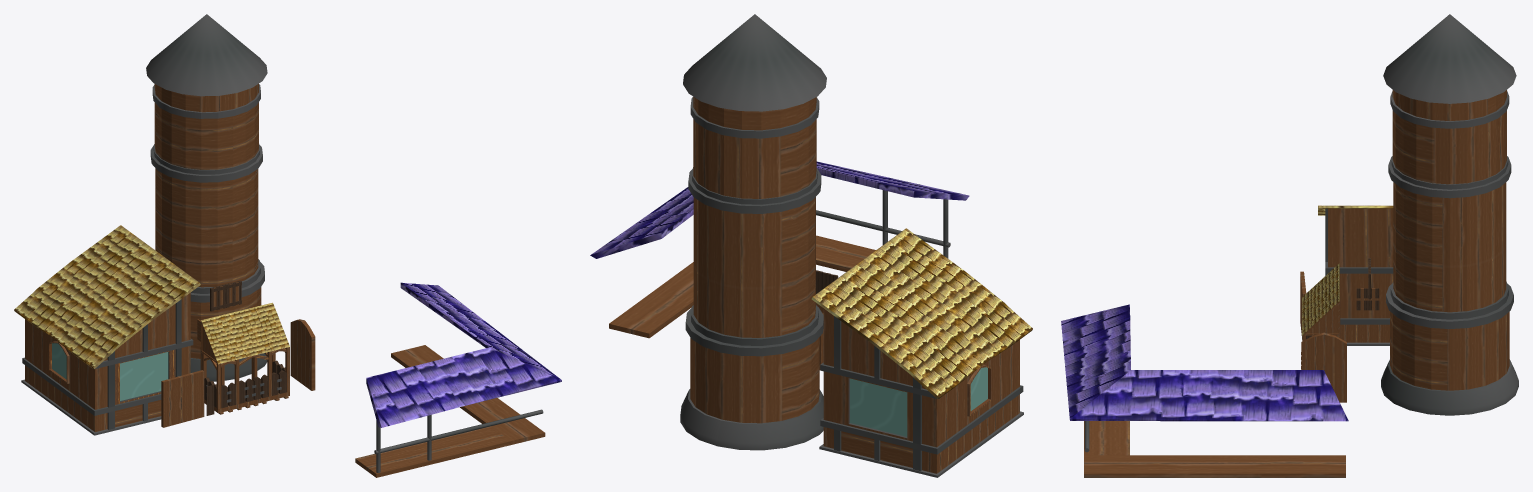
File: SM_Add_ons.fbx
3 renders of one model, left to right at view 1: azimuth 30°, elevation 25°; view 2: azimuth 150°, elevation 25°; view 3: azimuth 270°, elevation 25°, orthographic. The views are drawn at different scales.
Visible parts, largest first — view 1: SM_Side_house_Add_on, SM_Mill_Body, SM_House_Level_02_Terrace_Ver_01_Roof, SM_Mill_Roof, SM_House_Level_02_Terrace_Ver_01_FloorBoards, SM_House_level_02_terrace_ver_02, SM_House_level_02_terrace_ver_02_End_R, SM_Level_02_door, SM_House_level_02_terrace_ver_02_End_L, SM_Mill_Middle_Ring, SM_Door_01, SM_Mill_Top_Ring (+3 smaller); view 2: SM_Side_house_Add_on, SM_Mill_Body, SM_Mill_Roof, SM_House_Level_02_Terrace_Ver_01_Roof, SM_House_Level_02_Terrace_Ver_01_FloorBoards, SM_Mill_Base, SM_Mill_Bottom_Ring, SM_Mill_Middle_Ring, SM_Mill_Top_Ring, polySurface45; view 3: SM_Mill_Body, SM_House_Level_02_Terrace_Ver_01_Roof, SM_Side_house_Add_on, SM_Mill_Roof, SM_House_Level_02_Terrace_Ver_01_FloorBoards, SM_Mill_Base, SM_Mill_Bottom_Ring, SM_Door_01, SM_Mill_Middle_Ring, SM_Mill_Top_Ring, SM_House_level_02_terrace_ver_02_End_L, SM_House_level_02_terrace_ver_02 (+1 smaller).
Part boxes in pixels (<box>): SM_Side_house_Add_on: <box>14,225,200,435</box>; SM_Mill_Body: <box>154,83,261,358</box>; SM_House_Level_02_Terrace_Ver_01_Roof: <box>366,282,561,427</box>; SM_Mill_Roof: <box>146,14,267,96</box>; SM_House_Level_02_Terrace_Ver_01_FloorBoards: <box>355,345,545,477</box>; SM_House_level_02_terrace_ver_02: <box>219,307,271,410</box>; SM_House_level_02_terrace_ver_02_End_R: <box>200,316,236,414</box>; SM_Level_02_door: <box>161,370,204,427</box>; SM_House_level_02_terrace_ver_02_End_L: <box>254,302,289,400</box>; SM_Mill_Middle_Ring: <box>150,144,262,182</box>; SM_Door_01: <box>290,319,315,390</box>; SM_Mill_Top_Ring: <box>152,84,260,118</box>; SM_Side_house_Add_on: <box>811,228,1032,477</box>; SM_Mill_Body: <box>690,97,819,423</box>; SM_Mill_Roof: <box>683,14,826,111</box>; SM_House_Level_02_Terrace_Ver_01_Roof: <box>590,161,969,258</box>; SM_House_Level_02_Terrace_Ver_01_FloorBoards: <box>609,235,875,338</box>; SM_Mill_Base: <box>680,389,823,450</box>; SM_Mill_Bottom_Ring: <box>685,305,823,356</box>; SM_Mill_Middle_Ring: <box>688,167,821,213</box>; SM_Mill_Top_Ring: <box>690,97,819,138</box>; polySurface45: <box>816,210,950,247</box>; SM_Mill_Body: <box>1390,90,1509,390</box>; SM_House_Level_02_Terrace_Ver_01_Roof: <box>1061,304,1348,421</box>; SM_Side_house_Add_on: <box>1318,205,1393,345</box>; SM_Mill_Roof: <box>1383,14,1516,103</box>; SM_House_Level_02_Terrace_Ver_01_FloorBoards: <box>1084,421,1345,477</box>; SM_Mill_Base: <box>1381,359,1518,415</box>; SM_Mill_Bottom_Ring: <box>1386,281,1513,328</box>; SM_Door_01: <box>1301,332,1346,402</box>; SM_Mill_Middle_Ring: <box>1388,156,1511,198</box>; SM_Mill_Top_Ring: <box>1390,91,1509,128</box>; SM_House_level_02_terrace_ver_02_End_L: <box>1302,292,1340,341</box>; SM_House_level_02_terrace_ver_02: <box>1301,273,1340,368</box>.
Bounding box in the file's own units: 753 × 684 × 761.
